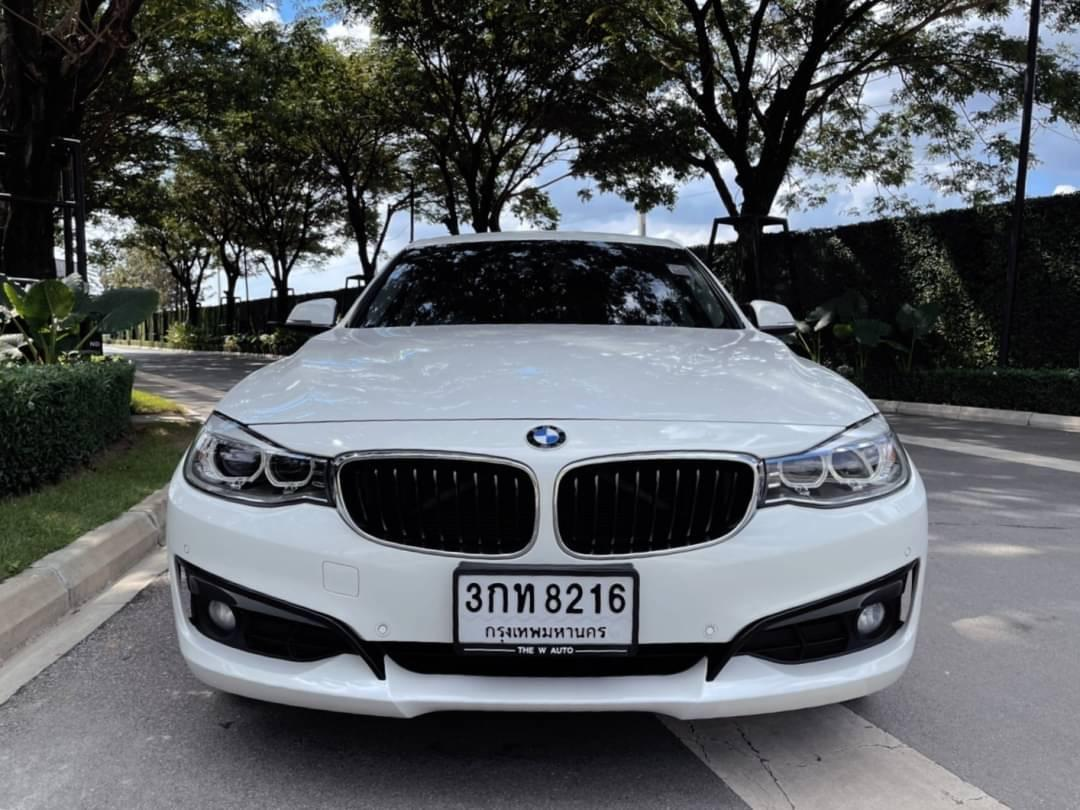license-plate: (448, 554, 647, 663)
